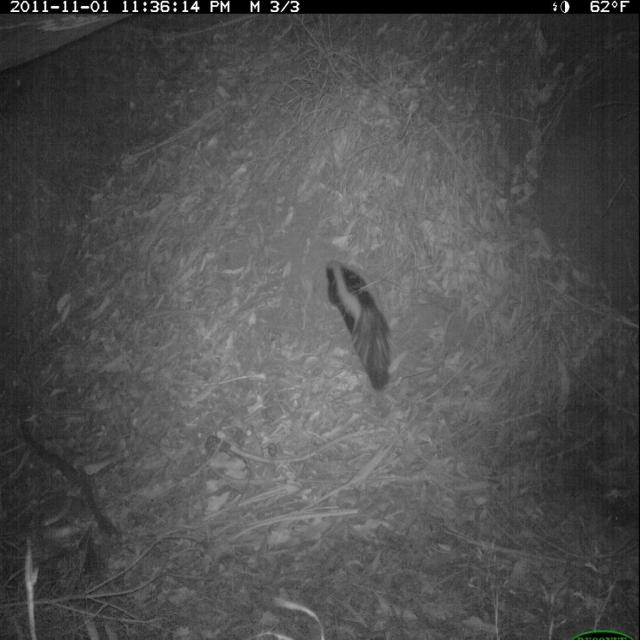skunk: (322, 248, 402, 393)
